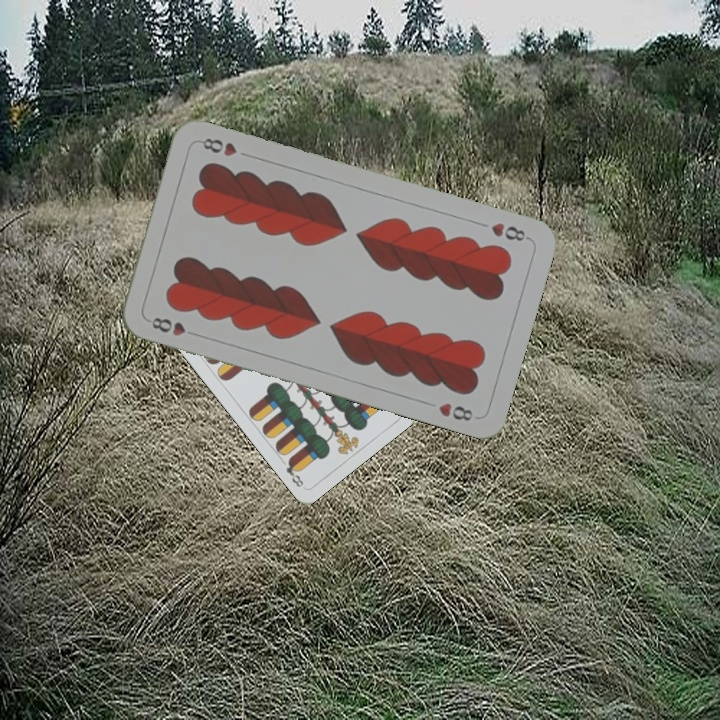H8: (147, 313, 202, 339), (487, 218, 532, 244)
